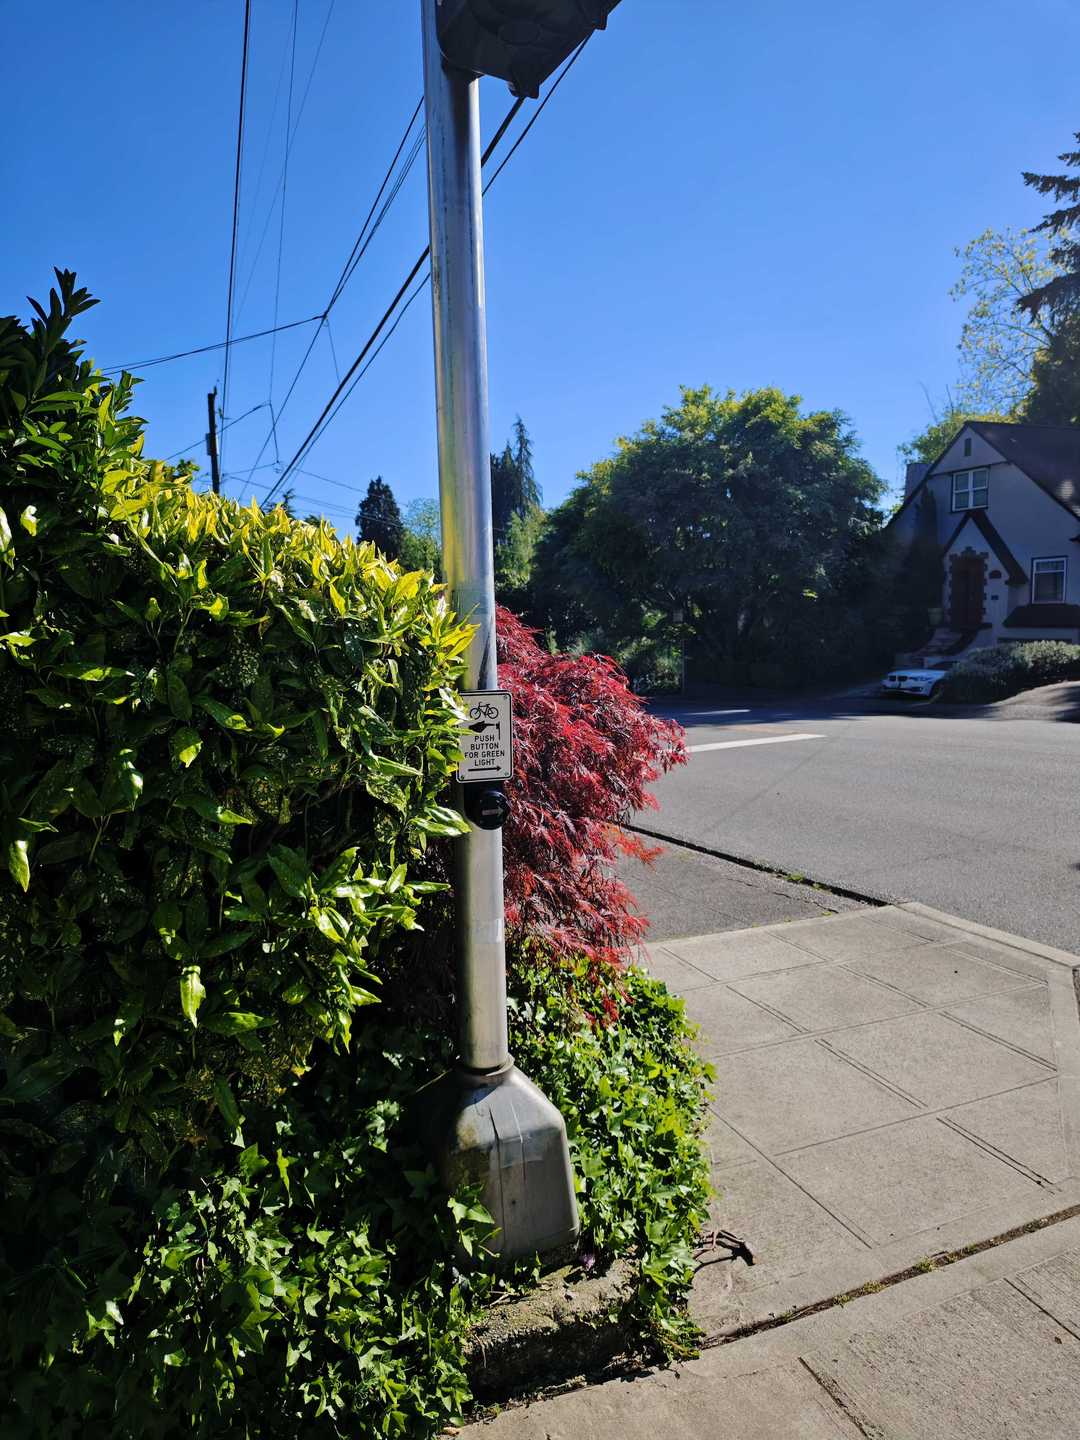ped_button: (447, 700, 520, 832)
